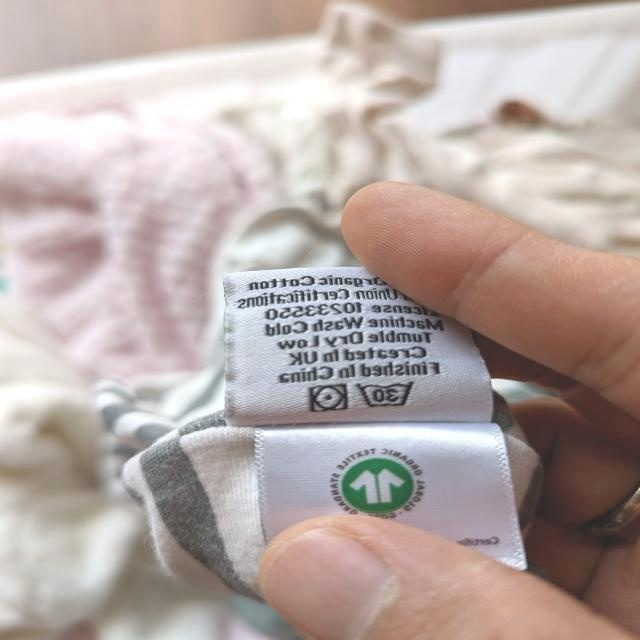30C: (354, 377, 419, 411)
tumble_dry_low: (306, 381, 350, 416)
